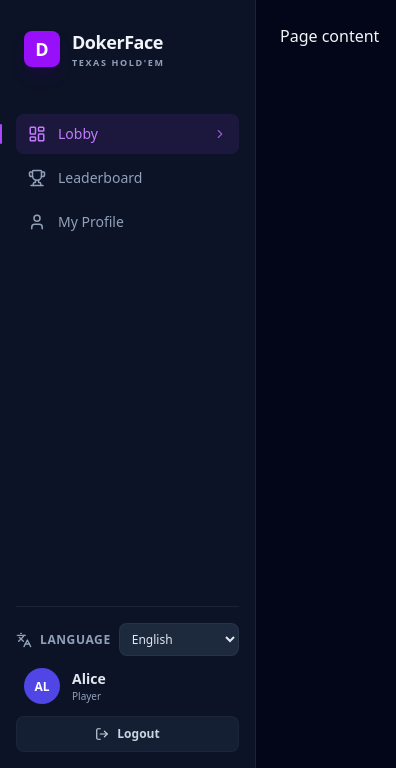
Language switching › switches to Chinese, persists the choice, and updates the document language
Select "简体中文" in the dropdown named "Change language" at point(179, 640), box [119,623,239,656]
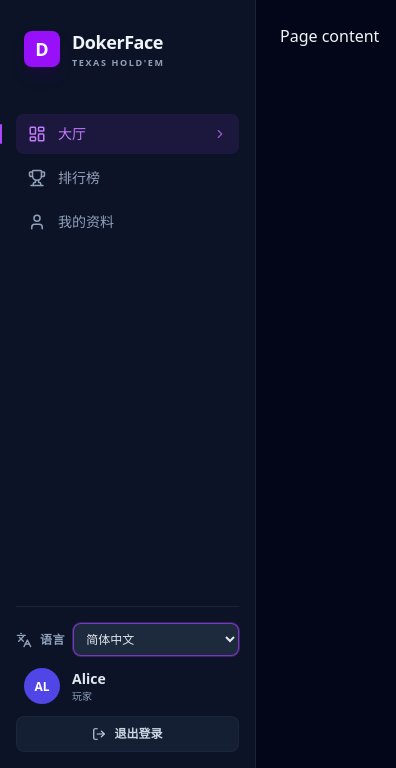
Now the text "大厅" is shown, box [58,124,86,142]
Now the text "排行榜" is shown, box [58,168,100,186]
Now the button "退出登录" is shown, box [16,716,239,752]
